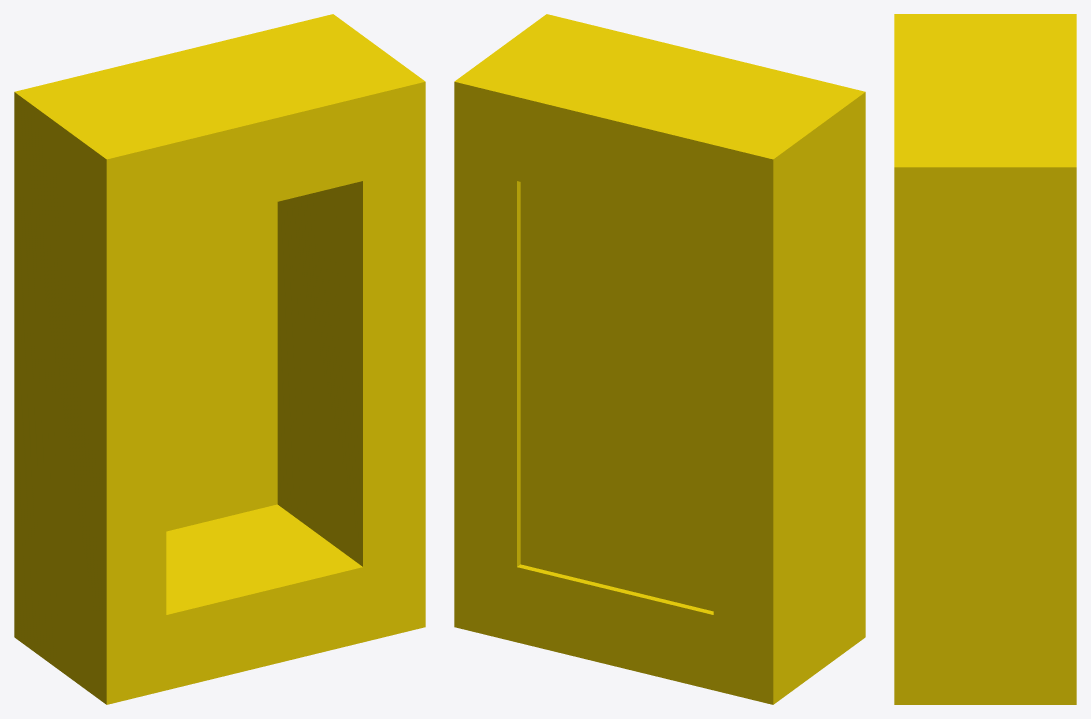
The model's file is empty_box.fbx.
3 views of the same model, side by side, from view 1: azimuth 30°, elevation 25°; view 2: azimuth 150°, elevation 25°; view 3: azimuth 270°, elevation 25° (orthographic).
Parts seen in each view (by area): view 1: caixa2; view 2: caixa2; view 3: caixa2.
Boxes of the visible parts, x1=… form: caixa2: x1=14, y1=14, x2=425, y2=704; caixa2: x1=454, y1=14, x2=865, y2=704; caixa2: x1=894, y1=14, x2=1076, y2=704.
Bounding box in the file's own units: 418 × 684 × 210.
